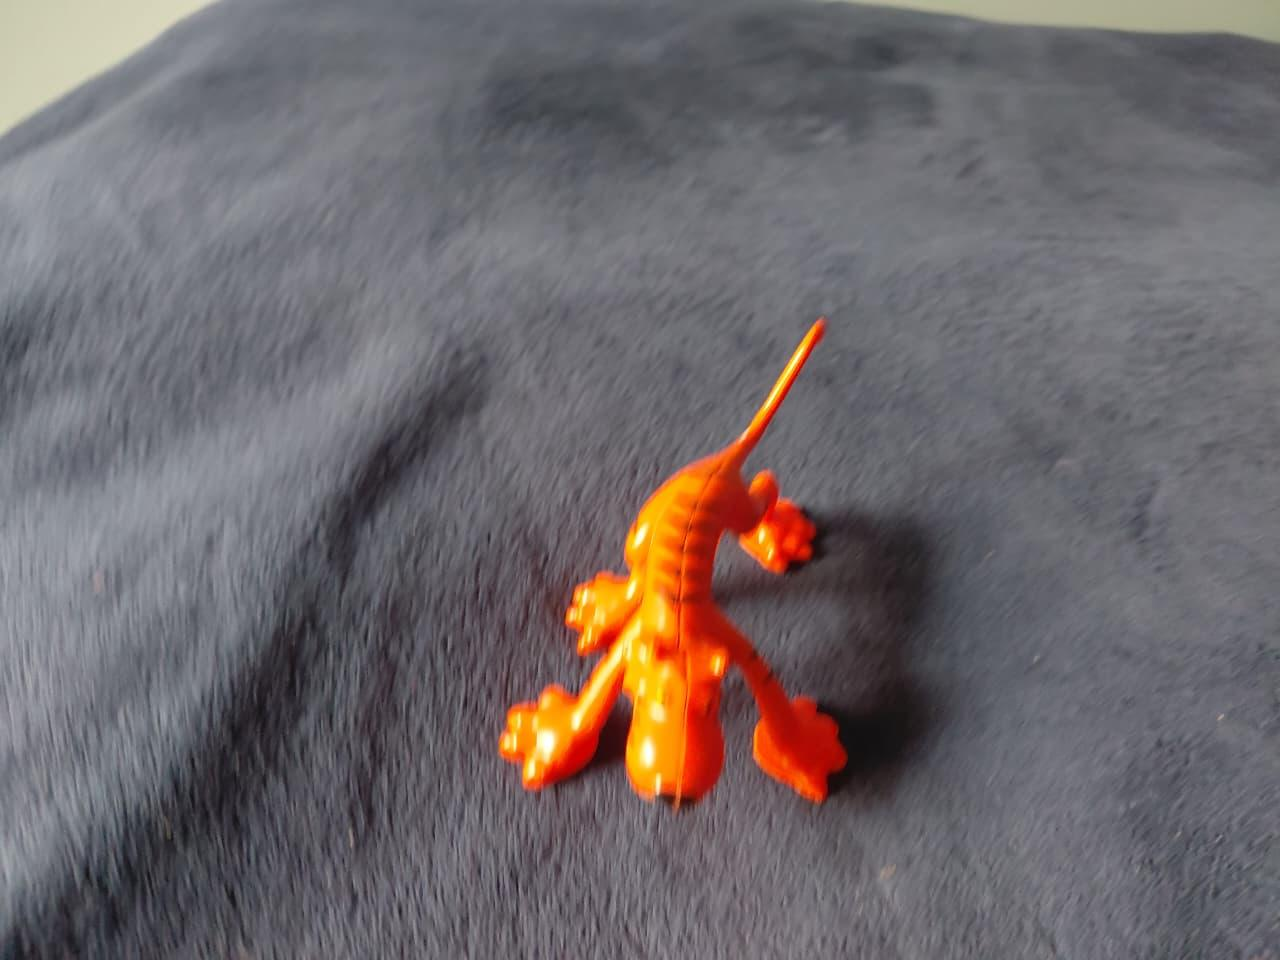tiger: (491, 290, 861, 820)
